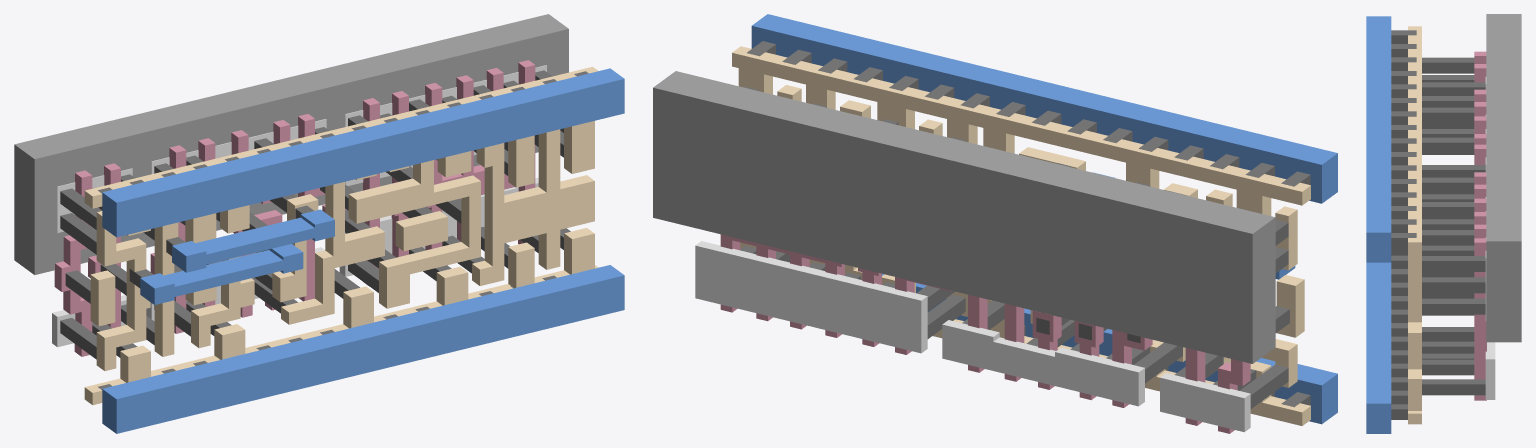
Rendered from sky130_fd_sc_hd__dlrtp_4.gds.gltf.
The picture shows the model from 3 angles, left to right: view 1: azimuth 30°, elevation 25°; view 2: azimuth 150°, elevation 25°; view 3: azimuth 270°, elevation 25°; orthographic projection. The views are drawn at different scales.
Parts seen in each view (by area): view 1: sky130_fd_sc_hd__dlrtp_4_met1, sky130_fd_sc_hd__dlrtp_4_li1, sky130_fd_sc_hd__dlrtp_4_nwell, sky130_fd_sc_hd__dlrtp_4_licon, sky130_fd_sc_hd__dlrtp_4_poly, sky130_fd_sc_hd__dlrtp_4_diff, sky130_fd_sc_hd__dlrtp_4_mcon; view 2: sky130_fd_sc_hd__dlrtp_4_nwell, sky130_fd_sc_hd__dlrtp_4_diff, sky130_fd_sc_hd__dlrtp_4_li1, sky130_fd_sc_hd__dlrtp_4_met1, sky130_fd_sc_hd__dlrtp_4_poly, sky130_fd_sc_hd__dlrtp_4_licon, sky130_fd_sc_hd__dlrtp_4_mcon; view 3: sky130_fd_sc_hd__dlrtp_4_licon, sky130_fd_sc_hd__dlrtp_4_nwell, sky130_fd_sc_hd__dlrtp_4_met1, sky130_fd_sc_hd__dlrtp_4_mcon, sky130_fd_sc_hd__dlrtp_4_li1, sky130_fd_sc_hd__dlrtp_4_poly, sky130_fd_sc_hd__dlrtp_4_diff.
Part boxes in pixels (x1,y1,x2,y2): sky130_fd_sc_hd__dlrtp_4_met1: [102, 68, 624, 433]; sky130_fd_sc_hd__dlrtp_4_li1: [84, 66, 598, 405]; sky130_fd_sc_hd__dlrtp_4_nwell: [14, 14, 568, 274]; sky130_fd_sc_hd__dlrtp_4_licon: [60, 70, 570, 359]; sky130_fd_sc_hd__dlrtp_4_poly: [54, 60, 535, 356]; sky130_fd_sc_hd__dlrtp_4_diff: [52, 65, 546, 347]; sky130_fd_sc_hd__dlrtp_4_mcon: [98, 71, 588, 389]; sky130_fd_sc_hd__dlrtp_4_nwell: [653, 71, 1275, 363]; sky130_fd_sc_hd__dlrtp_4_diff: [695, 241, 1250, 432]; sky130_fd_sc_hd__dlrtp_4_li1: [732, 46, 1310, 425]; sky130_fd_sc_hd__dlrtp_4_met1: [751, 14, 1337, 424]; sky130_fd_sc_hd__dlrtp_4_poly: [720, 234, 1250, 433]; sky130_fd_sc_hd__dlrtp_4_licon: [740, 87, 1289, 408]; sky130_fd_sc_hd__dlrtp_4_mcon: [747, 41, 1310, 407]; sky130_fd_sc_hd__dlrtp_4_licon: [1422, 57, 1485, 395]; sky130_fd_sc_hd__dlrtp_4_nwell: [1486, 14, 1521, 342]; sky130_fd_sc_hd__dlrtp_4_met1: [1366, 16, 1391, 433]; sky130_fd_sc_hd__dlrtp_4_mcon: [1391, 30, 1416, 419]; sky130_fd_sc_hd__dlrtp_4_li1: [1408, 26, 1421, 424]; sky130_fd_sc_hd__dlrtp_4_poly: [1474, 51, 1486, 400]; sky130_fd_sc_hd__dlrtp_4_diff: [1485, 77, 1495, 399].
Size of the model in its own units: 7.74 by 3.2 by 2.24.
